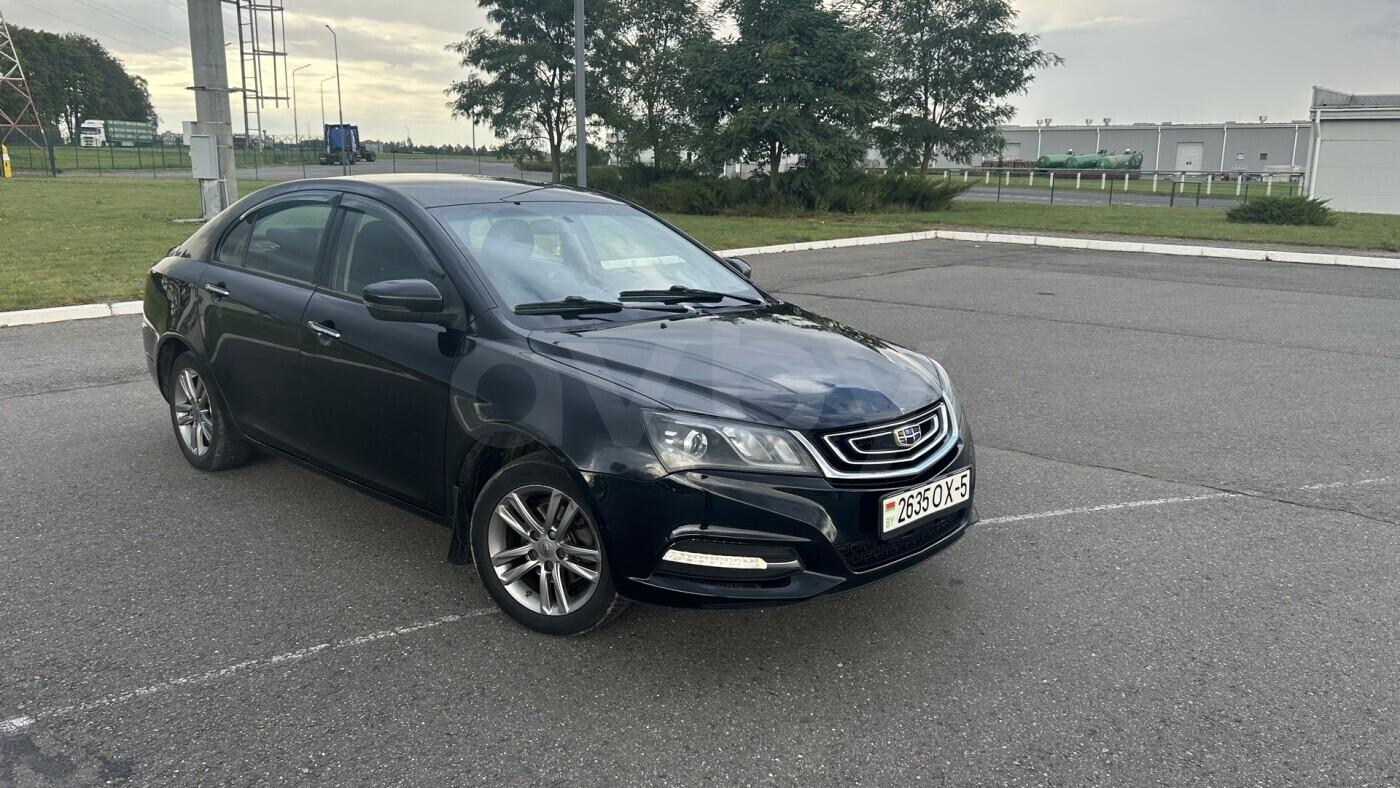Emgrand_2019-2021: (141, 175, 979, 635)
